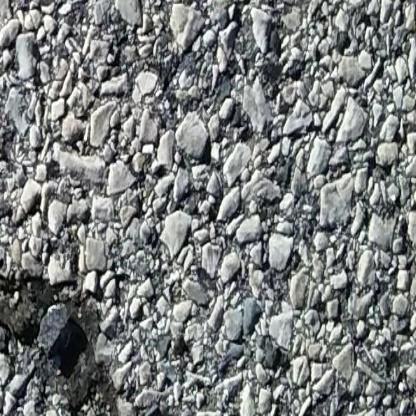Cracks: (0, 256, 205, 416)
